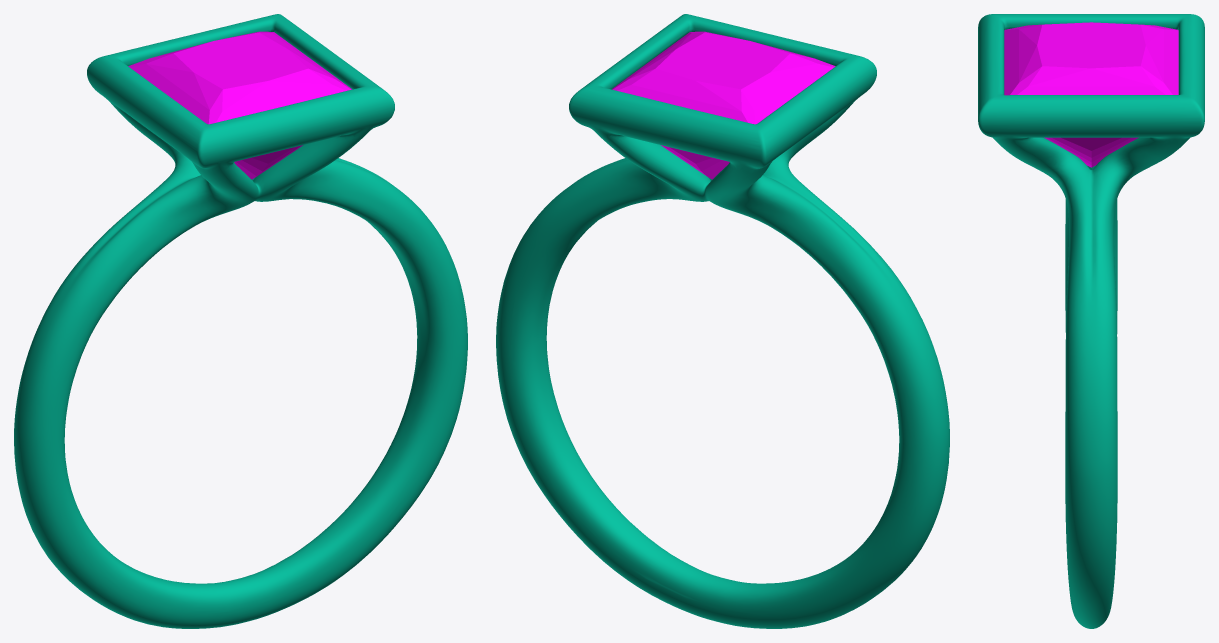
The model's file is BE1543_PR_200ct_RENDER.glb.
3 renders of one model, left to right at view 1: azimuth 30°, elevation 25°; view 2: azimuth 150°, elevation 25°; view 3: azimuth 270°, elevation 25°, orthographic.
Parts seen in each view (by area): view 1: Metal 01, CS_Diamond_Princess; view 2: Metal 01, CS_Diamond_Princess; view 3: Metal 01, CS_Diamond_Princess.
Part boxes in pixels (bbox=[...]): Metal 01: bbox=[14, 14, 467, 628]; CS_Diamond_Princess: bbox=[128, 31, 352, 179]; Metal 01: bbox=[496, 14, 949, 628]; CS_Diamond_Princess: bbox=[612, 31, 835, 179]; Metal 01: bbox=[978, 14, 1204, 628]; CS_Diamond_Princess: bbox=[1004, 22, 1178, 167].
Size of the model in its own units: 21.25 by 25.52 by 9.39.
